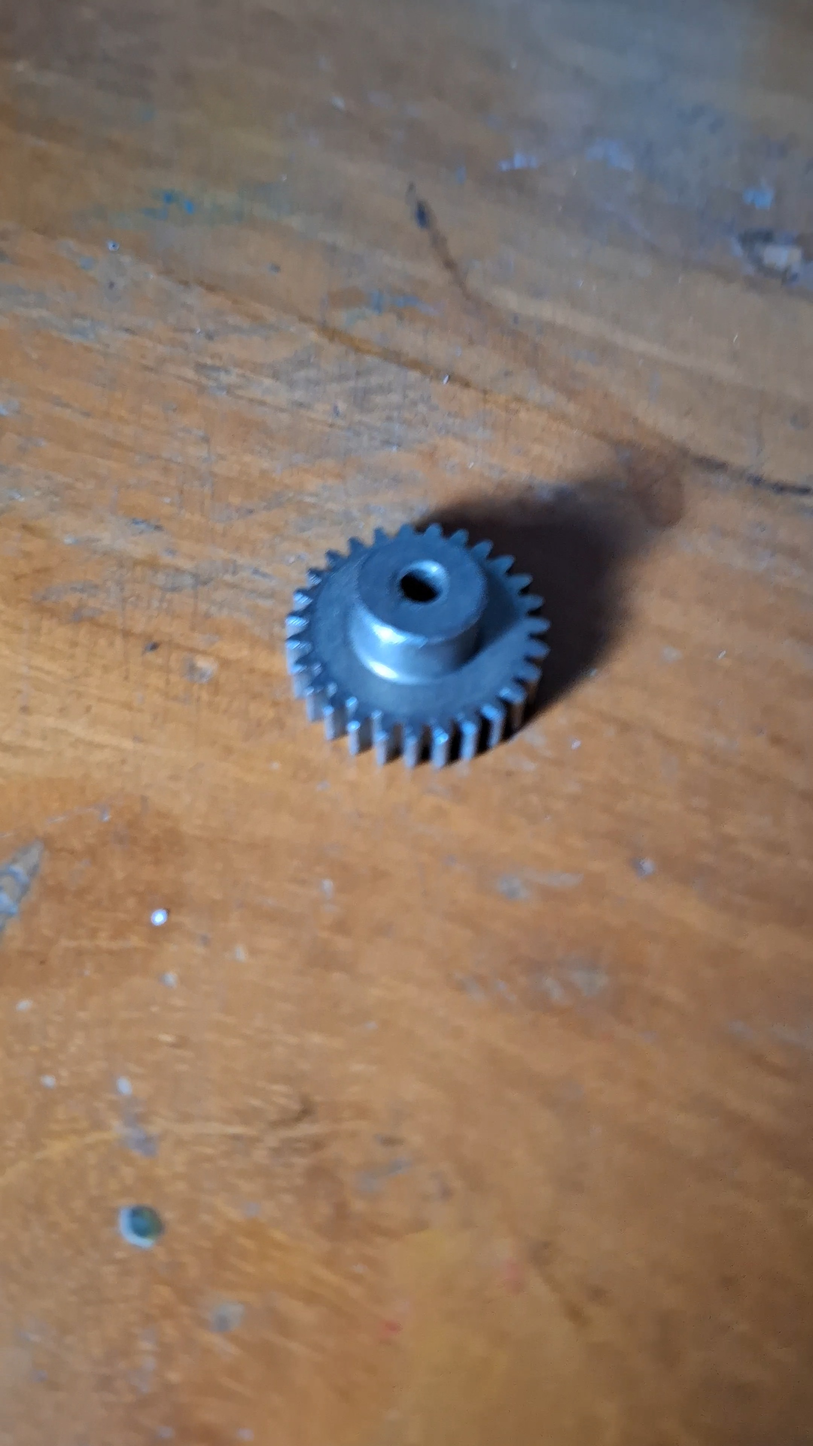spur gear: (294, 520, 560, 773), (286, 524, 548, 766)
